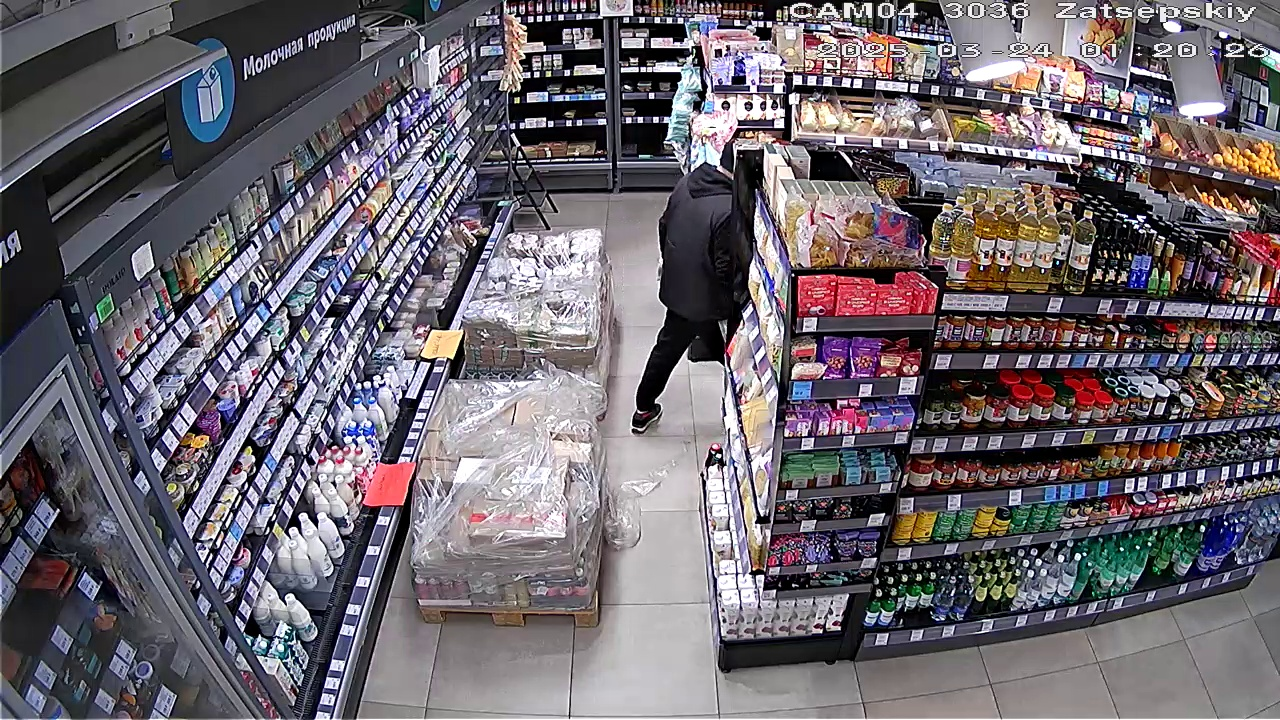Human: (634, 146, 731, 430)
pallet: (415, 367, 622, 620), (465, 218, 613, 401)
